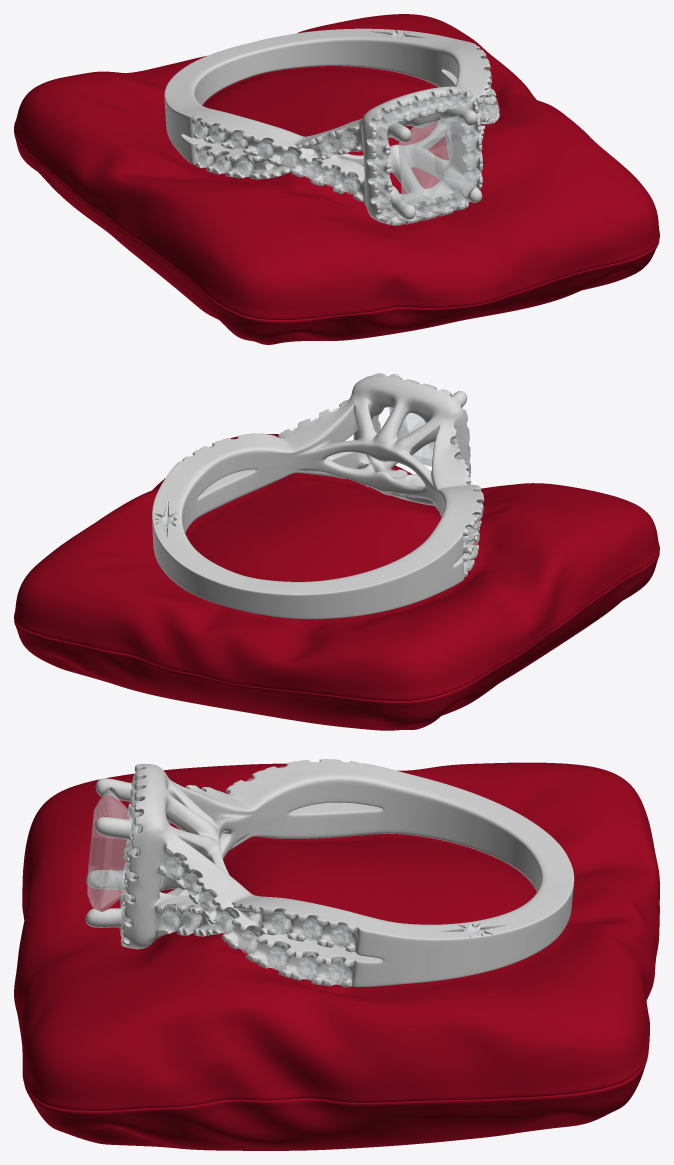
The model's file is halo-ring.glb.
The picture shows the model from 3 angles, top to bottom: view 1: azimuth 30°, elevation 25°; view 2: azimuth 150°, elevation 25°; view 3: azimuth 270°, elevation 25°; orthographic projection. The views are drawn at different scales.
Bounding box in the file's own units: 7.54 × 3.67 × 7.75.
